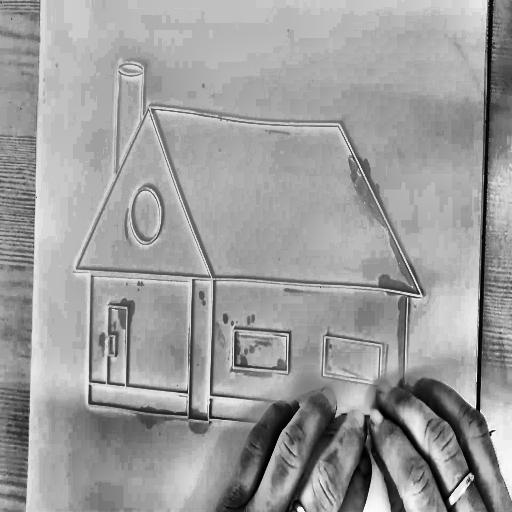house: (63, 30, 441, 459)
